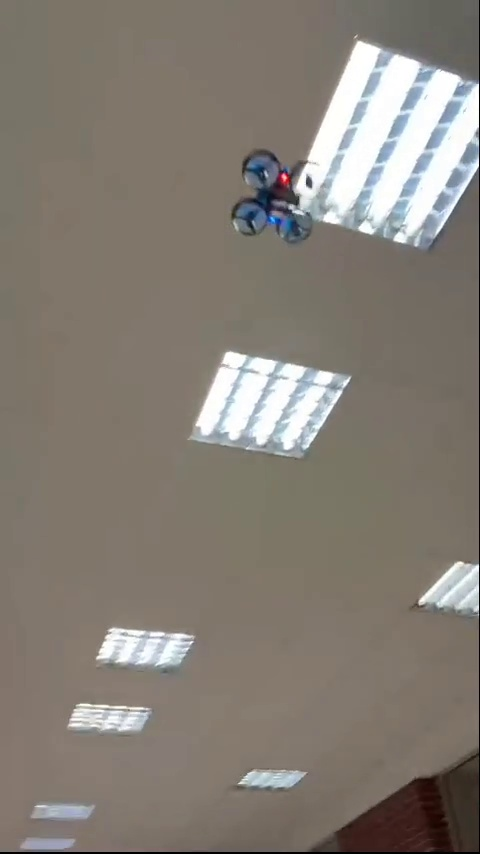drone: (233, 154, 321, 244)
